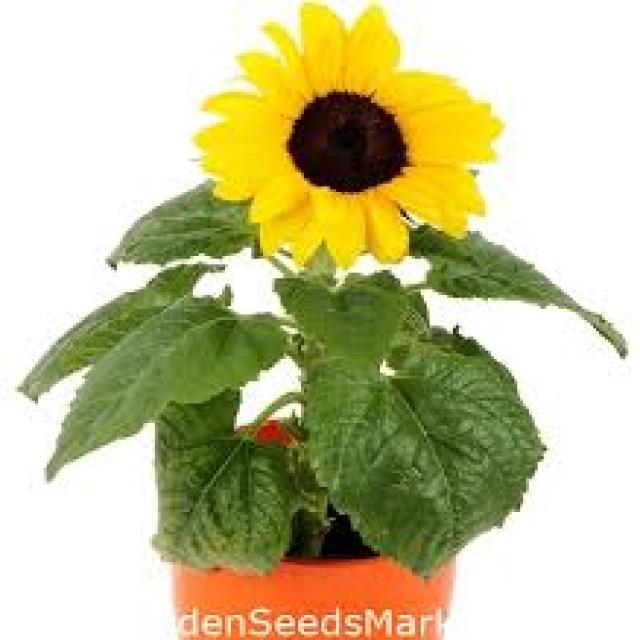sunflower: (181, 0, 508, 278)
